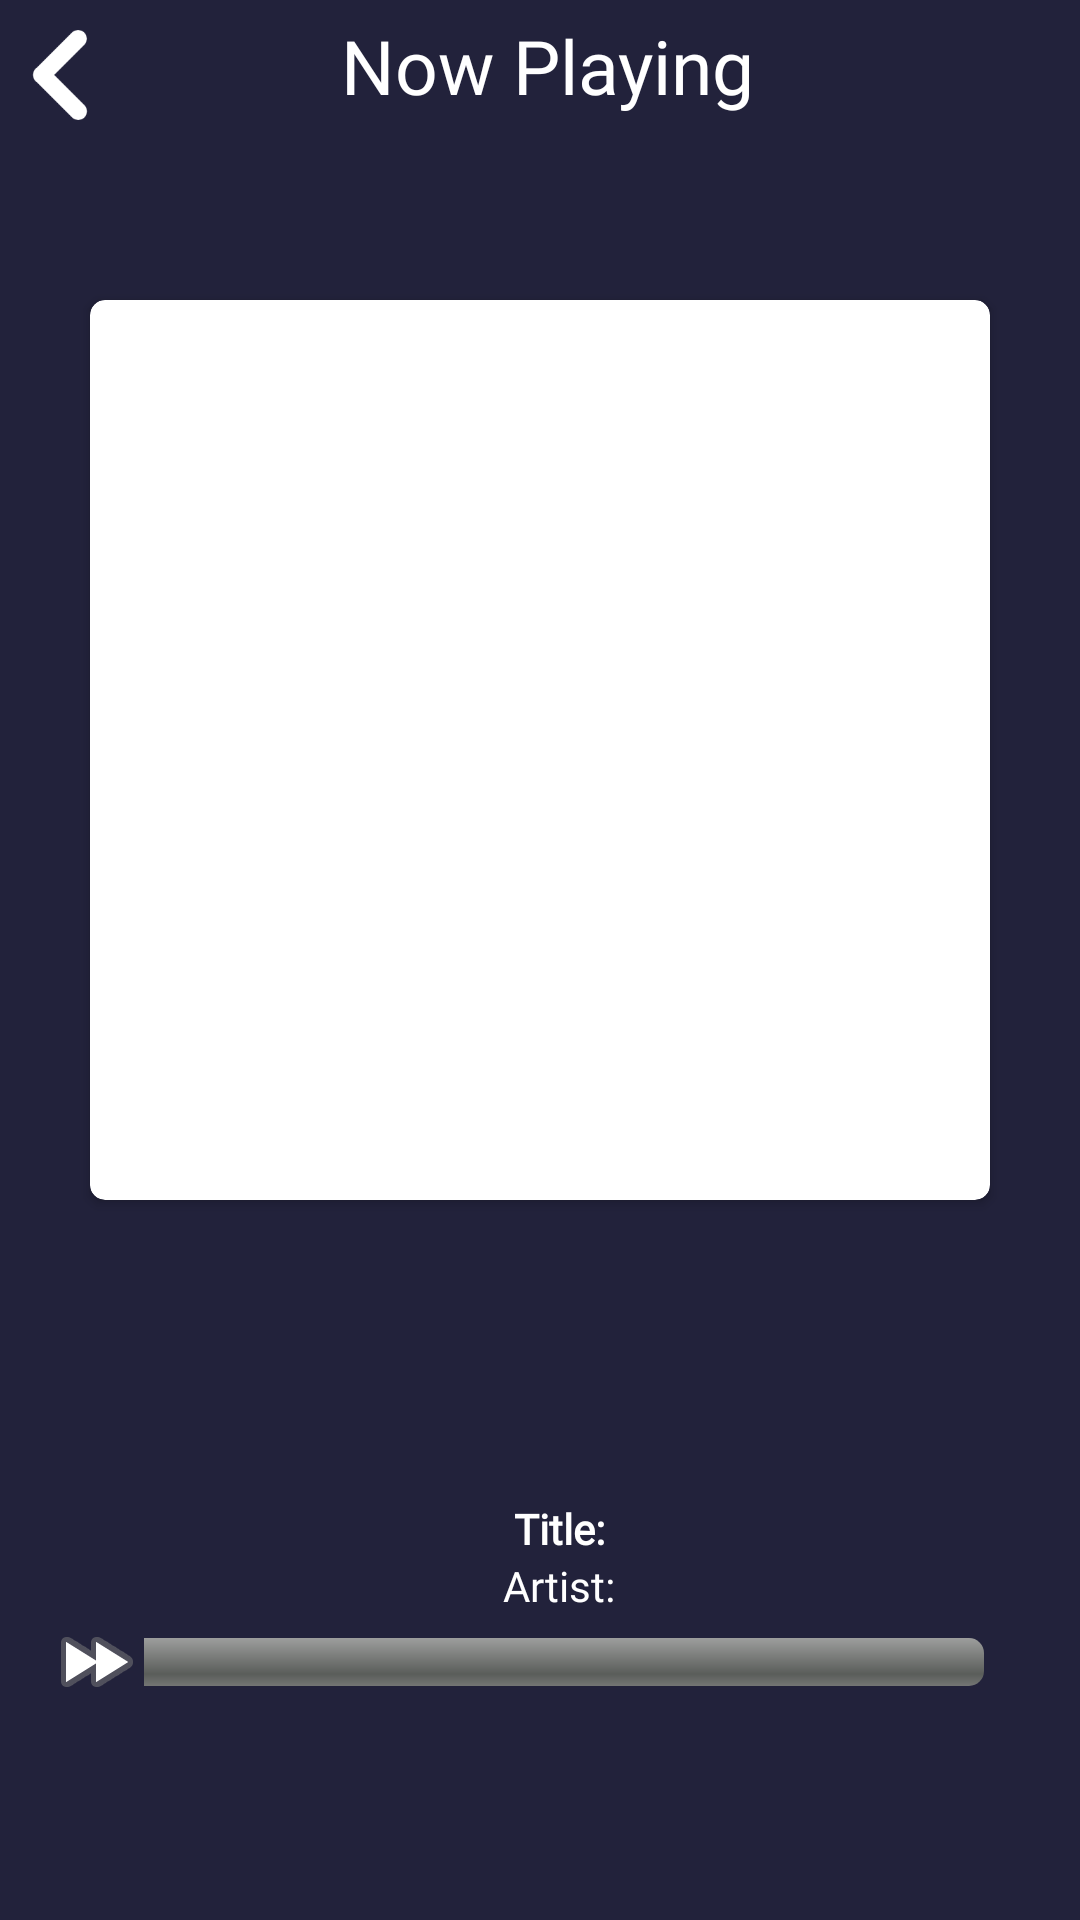

Icons on this 1080x1920 Android screen, each with its box as (x1, y1, x2, y2):
back: (33, 30, 87, 120)
